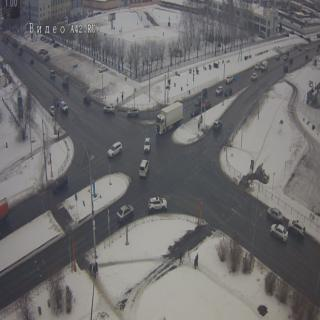large-vehicle: (150, 100, 187, 136)
small-vehicle: (286, 213, 306, 238), (267, 203, 281, 224), (148, 196, 166, 212), (116, 202, 132, 218), (107, 141, 122, 158), (272, 223, 286, 241), (49, 180, 69, 191), (138, 162, 149, 180), (142, 135, 152, 154), (58, 98, 69, 115), (127, 105, 141, 117), (103, 105, 115, 116), (222, 88, 233, 100), (202, 99, 212, 112), (261, 58, 269, 74), (194, 106, 202, 120), (224, 73, 234, 84), (49, 102, 56, 116), (254, 58, 262, 70), (61, 72, 69, 84), (48, 68, 56, 80), (216, 85, 224, 96), (192, 97, 201, 106), (251, 72, 258, 83), (274, 53, 281, 63), (17, 45, 23, 55), (200, 90, 207, 98), (283, 50, 287, 62), (289, 56, 293, 68), (30, 56, 34, 66), (296, 43, 300, 53), (293, 41, 296, 50), (282, 66, 286, 72)
